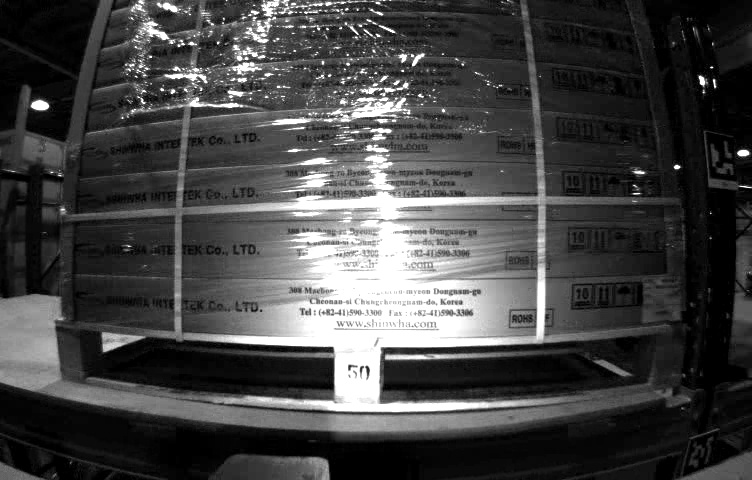True Barcode: (639, 274, 683, 324)
